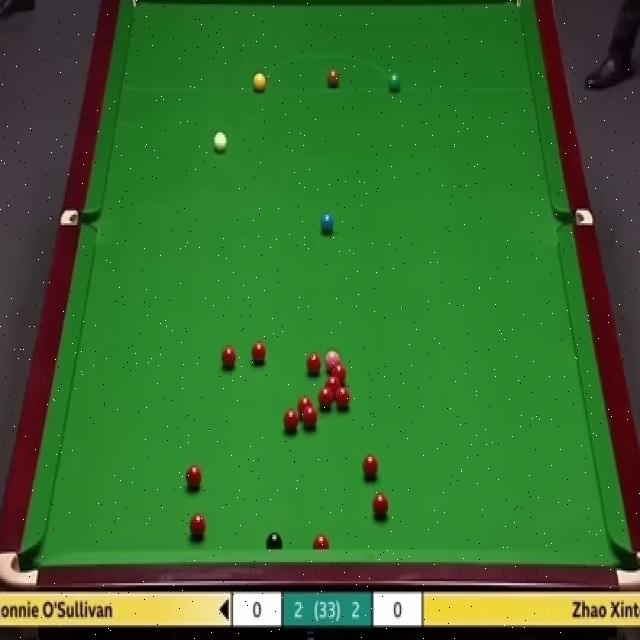black-ball: (266, 531, 282, 551)
blue-ball: (320, 212, 334, 235)
brown-ball: (328, 70, 340, 90)
green-ball: (389, 72, 405, 92)
pink-ball: (324, 347, 341, 366)
red-ball: (189, 512, 207, 541), (282, 407, 300, 434), (185, 463, 202, 490), (372, 491, 389, 518), (250, 340, 268, 364), (362, 455, 378, 482), (220, 344, 236, 370), (302, 406, 318, 430), (312, 531, 330, 551), (306, 351, 321, 374), (318, 388, 333, 410), (336, 388, 350, 409), (330, 364, 347, 381), (296, 396, 314, 410), (326, 376, 341, 388)
white-ball: (211, 127, 229, 154)
yellow-ball: (252, 70, 266, 91)
